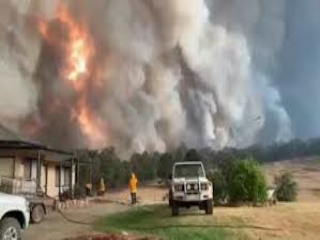fire: (45, 15, 104, 146)
smoke: (92, 4, 297, 141)
